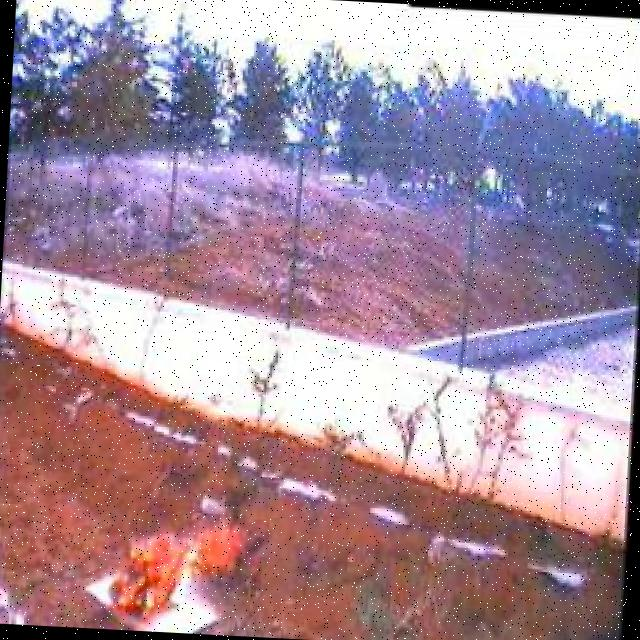fire: (105, 504, 246, 630)
